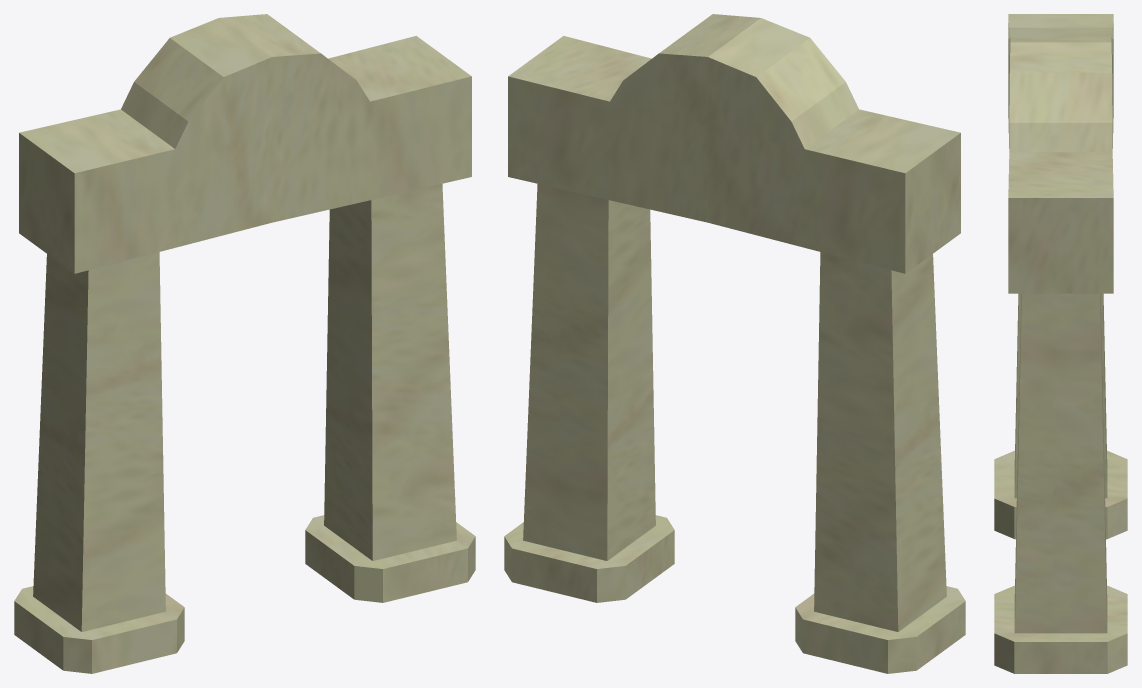
File: Gate 2.fbx
3 views of the same model, side by side, from view 1: azimuth 30°, elevation 25°; view 2: azimuth 150°, elevation 25°; view 3: azimuth 270°, elevation 25° (orthographic). The views are drawn at different scales.
Visible parts, largest first — view 1: Cube.006; view 2: Cube.006; view 3: Cube.006.
Part boxes in pixels (box(x1,y1,x2,y2)): Cube.006: box(14, 14, 475, 673); Cube.006: box(504, 14, 965, 673); Cube.006: box(994, 14, 1127, 673).
Bounding box in the file's own units: 313 × 410 × 92.26.
Materials: 1 (1 with a texture image).
